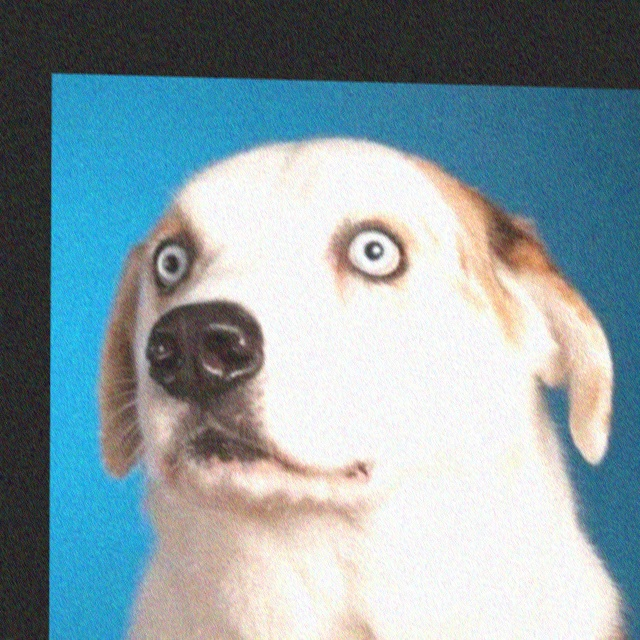dog: (99, 105, 623, 536)
